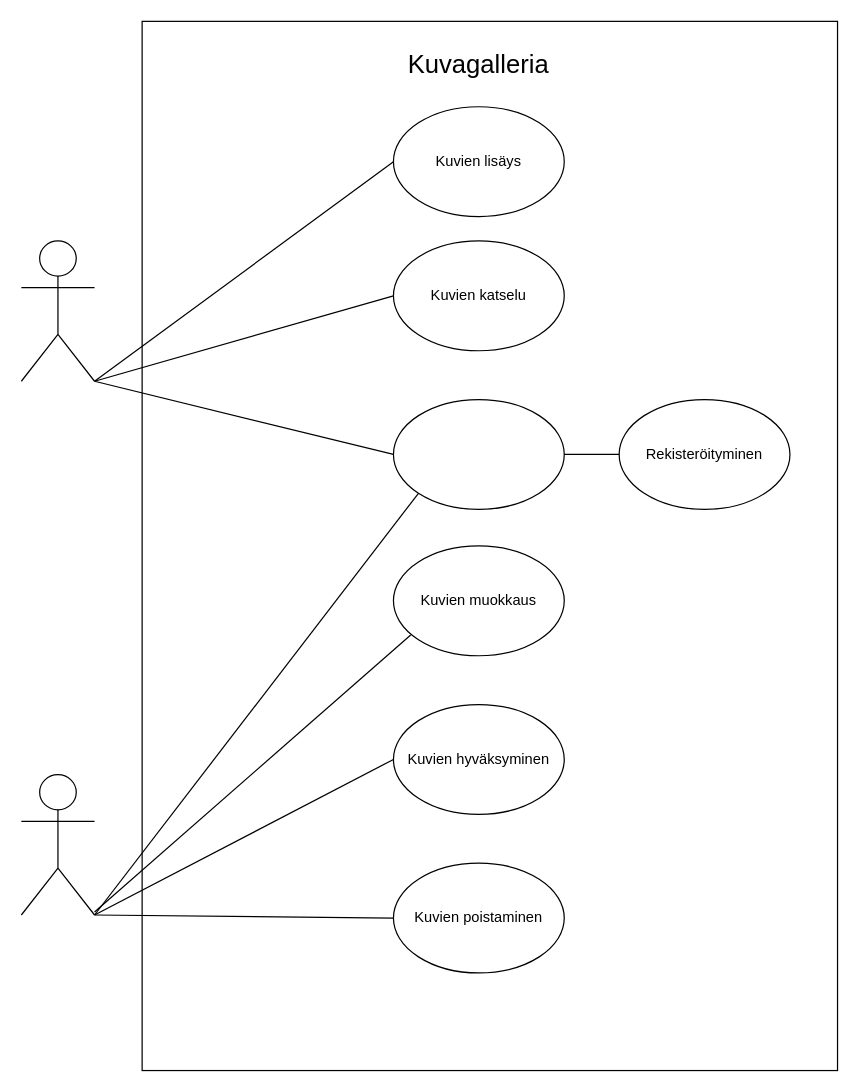
The diagram is 859 pixels wide and 1092 high, and some of its shapes have lost their labels. Each missing label, with the centre of its shape:
"Kirjautuminen" belongs at (x=478, y=453).
"Käyttäjä" belongs at (x=57, y=310).
"Ylläpitäjä" belongs at (x=57, y=844).
